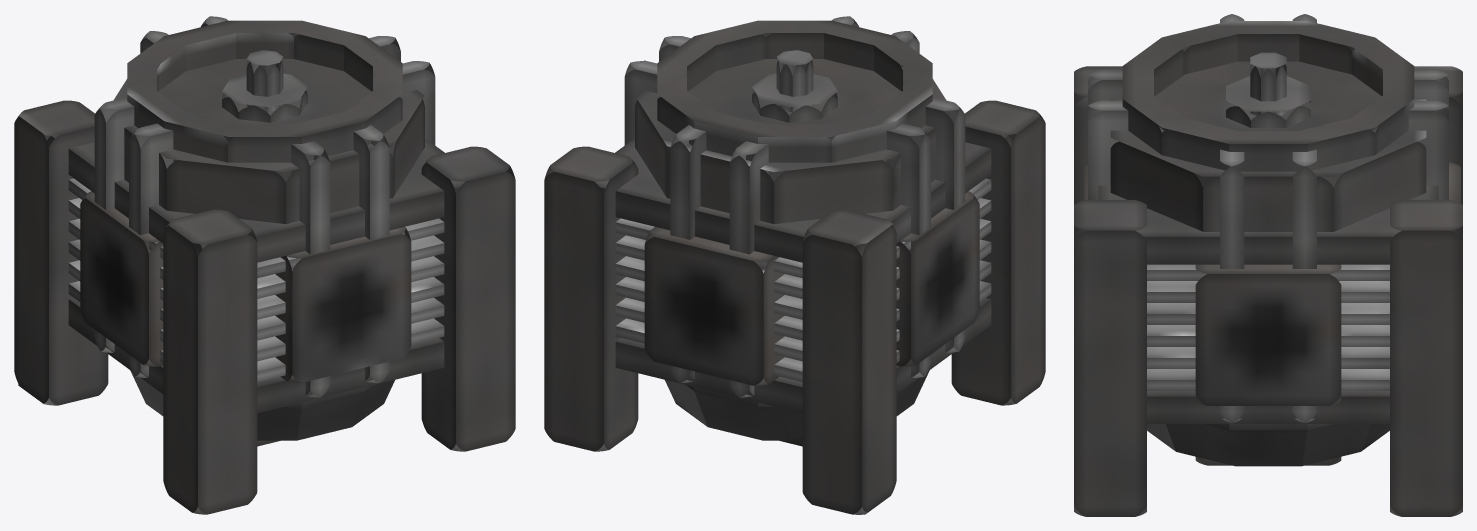
File: centrifuge_motor.obj
The picture shows the model from 3 angles, left to right: view 1: azimuth 30°, elevation 25°; view 2: azimuth 150°, elevation 25°; view 3: azimuth 270°, elevation 25°; orthographic projection. The views are drawn at different scales.
Parts seen in each view (by area): view 1: mesh; view 2: mesh; view 3: mesh.
Boxes of the visible parts, bbox=[...] form: mesh: bbox=[14, 16, 515, 514]; mesh: bbox=[544, 16, 1045, 514]; mesh: bbox=[1074, 14, 1462, 516].
Bounding box in the file's own units: 1 × 1.06 × 1.
